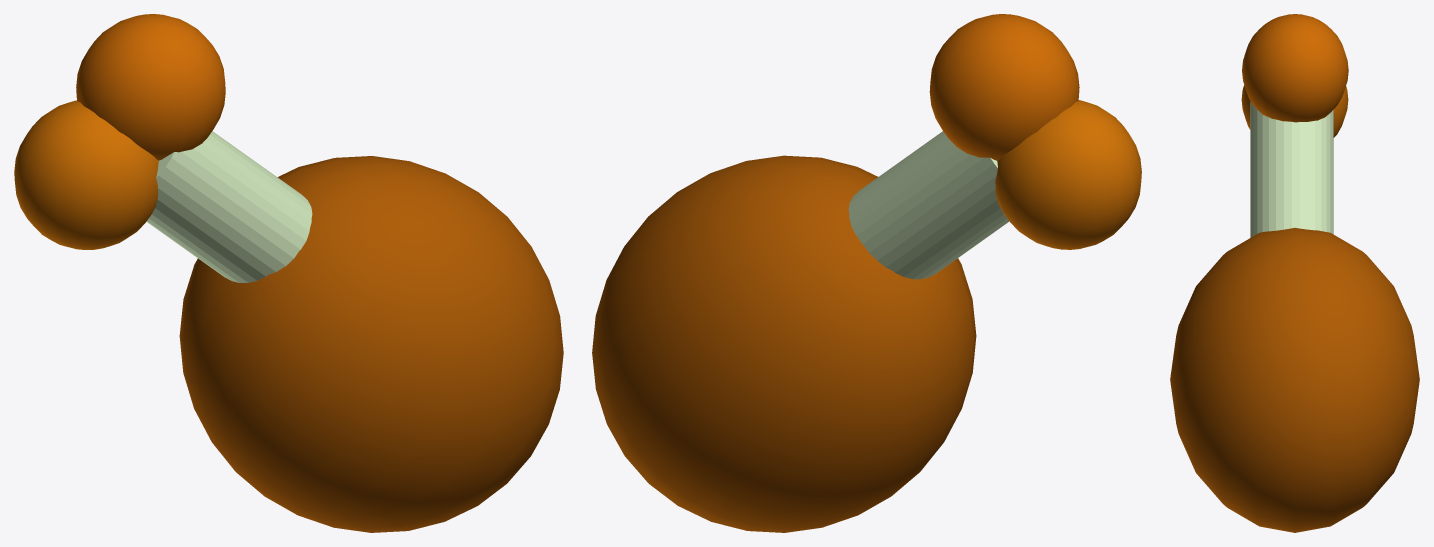
The model's file is Tavuk Budu.fbx.
The picture shows the model from 3 angles, left to right: view 1: azimuth 30°, elevation 25°; view 2: azimuth 150°, elevation 25°; view 3: azimuth 270°, elevation 25°; orthographic projection. The views are drawn at different scales.
Parts seen in each view (by area): view 1: Sphere.001; view 2: Sphere.001; view 3: Sphere.001.
Boxes of the visible parts, x1,y1,x2,y2 form: Sphere.001: [14, 14, 563, 532]; Sphere.001: [592, 14, 1141, 532]; Sphere.001: [1170, 14, 1419, 532].
Size of the model in its own units: 74.8 by 76.22 by 41.77.
